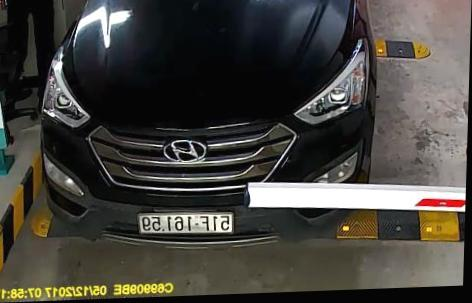License_Plate: (134, 202, 240, 245)
